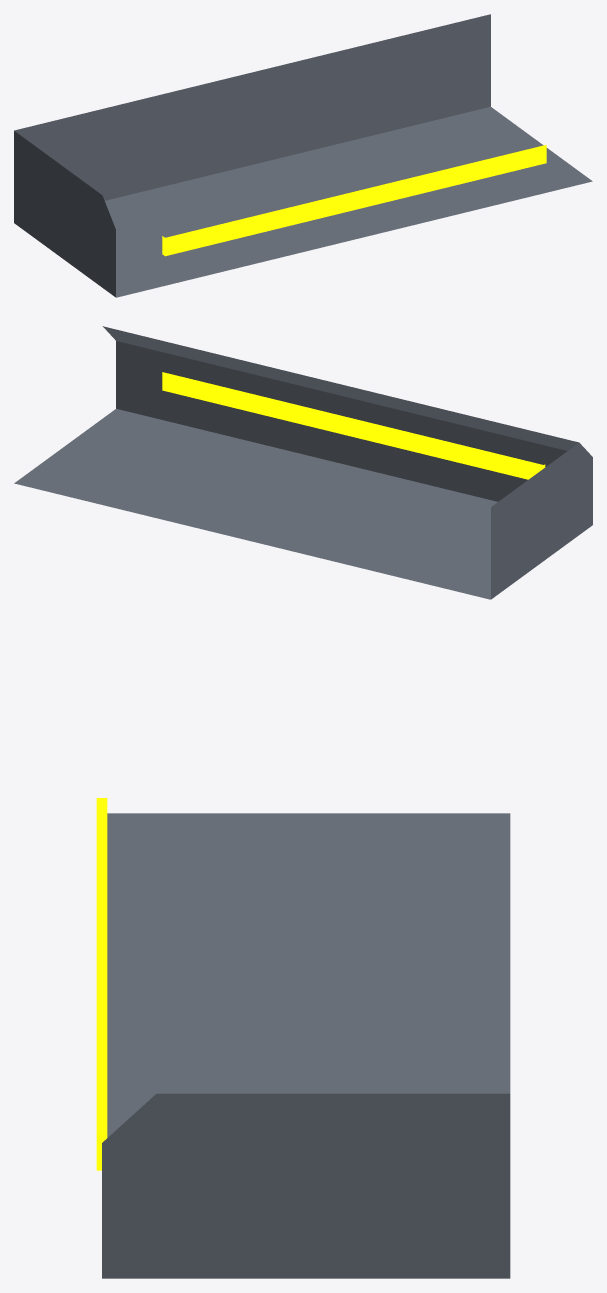
Rendered from ext_curb_segment_809mm.glb.
3 views of the same model, one above another, from view 1: azimuth 30°, elevation 25°; view 2: azimuth 150°, elevation 25°; view 3: azimuth 270°, elevation 25° (orthographic). The views are drawn at different scales.
Visible parts, largest first — view 1: Curb, Reflector_Strip; view 2: Curb, Reflector_Strip; view 3: Curb, Reflector_Strip.
Part boxes in pixels (x1,y1,x2,y2): Curb: (14,14,592,297); Reflector_Strip: (162,145,546,256); Curb: (14,326,592,599); Reflector_Strip: (162,372,545,479); Curb: (102,813,510,1278); Reflector_Strip: (96,798,107,1170).
Size of the model in its own units: 0.809 by 0.15 by 0.304.
